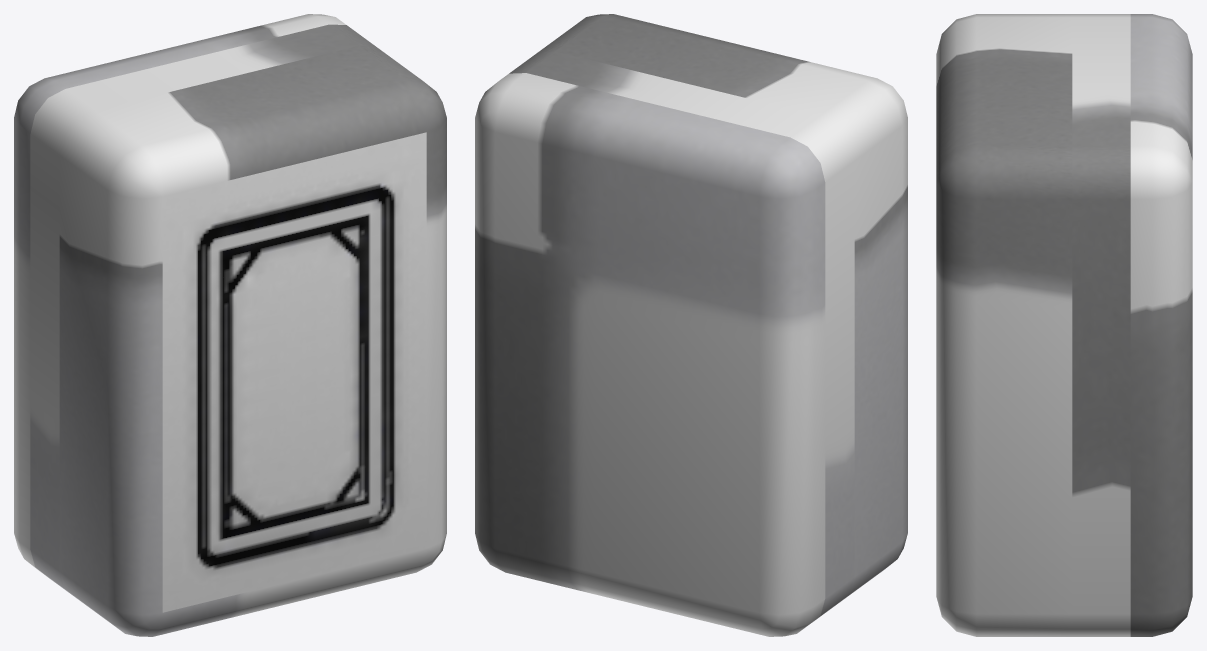
Rendered from majiang.FBX.
The picture shows the model from 3 angles, left to right: view 1: azimuth 30°, elevation 25°; view 2: azimuth 150°, elevation 25°; view 3: azimuth 270°, elevation 25°; orthographic projection.
Parts seen in each view (by area): view 1: majiangpai; view 2: majiangpai; view 3: majiangpai.
Part boxes in pixels (box(x1,y1,x2,y2)): majiangpai: box(14, 14, 446, 636); majiangpai: box(475, 14, 907, 636); majiangpai: box(936, 14, 1192, 636).
Bounding box in the file's own units: 3 × 4.2 × 2.
